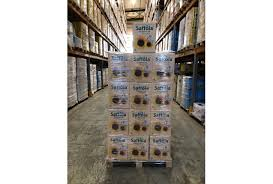other: (107, 22, 175, 168)
